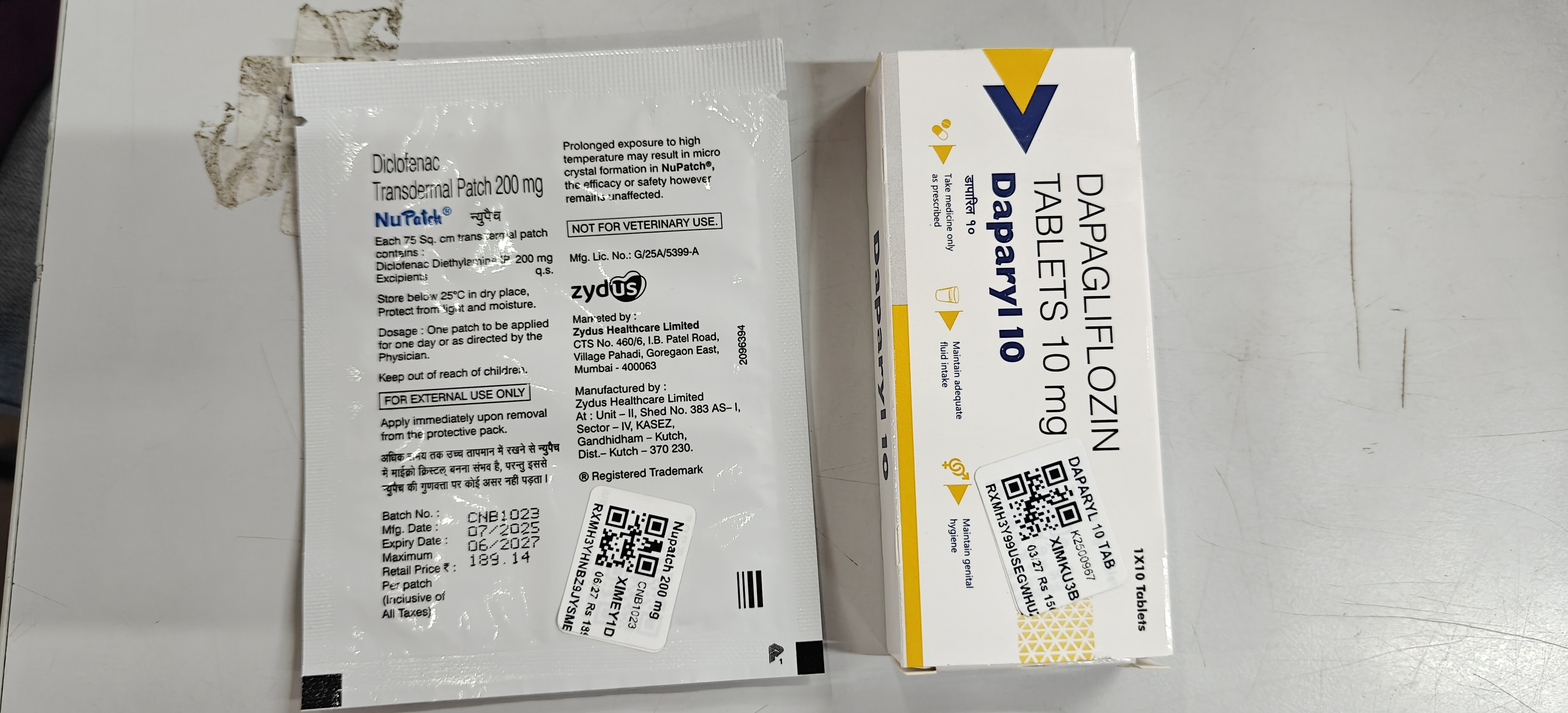qr_code: (1000, 460, 1082, 541), (595, 505, 668, 577)
